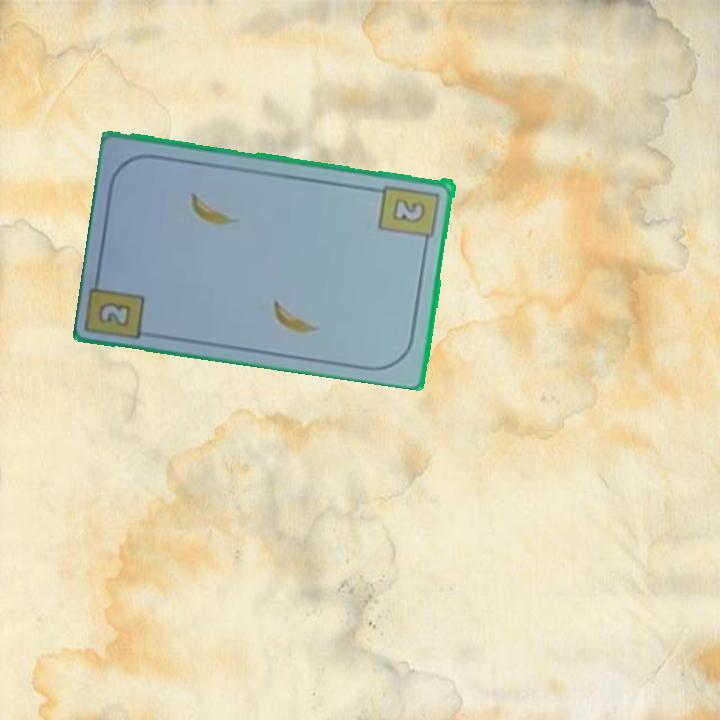2b: (376, 181, 443, 249), (94, 298, 135, 330)
